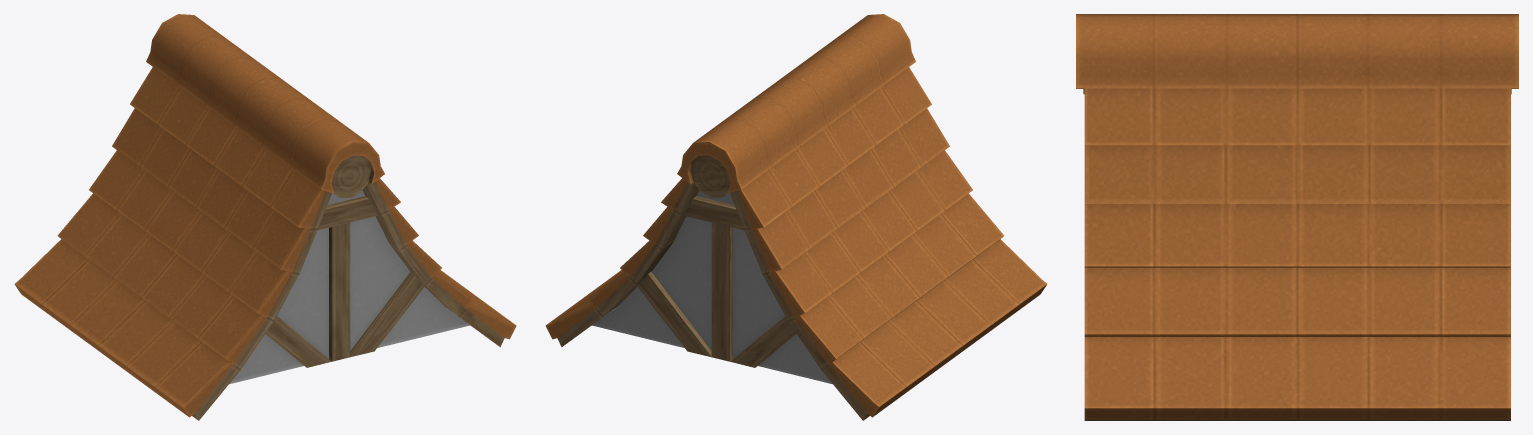
Rendered from sb_obj_outdoor028_house01_roof_a.fbx.
3 views of the same model, side by side, from view 1: azimuth 30°, elevation 25°; view 2: azimuth 150°, elevation 25°; view 3: azimuth 270°, elevation 25° (orthographic). The views are drawn at different scales.
Parts seen in each view (by area): view 1: sb_obj_outdoor028_house01_roof_a; view 2: sb_obj_outdoor028_house01_roof_a; view 3: sb_obj_outdoor028_house01_roof_a.
Part boxes in pixels (<box>): sb_obj_outdoor028_house01_roof_a: <box>14,14,516,420</box>; sb_obj_outdoor028_house01_roof_a: <box>545,14,1047,420</box>; sb_obj_outdoor028_house01_roof_a: <box>1076,14,1518,420</box>.
Size of the model in its own units: 3.78 by 2.65 by 3.43.
